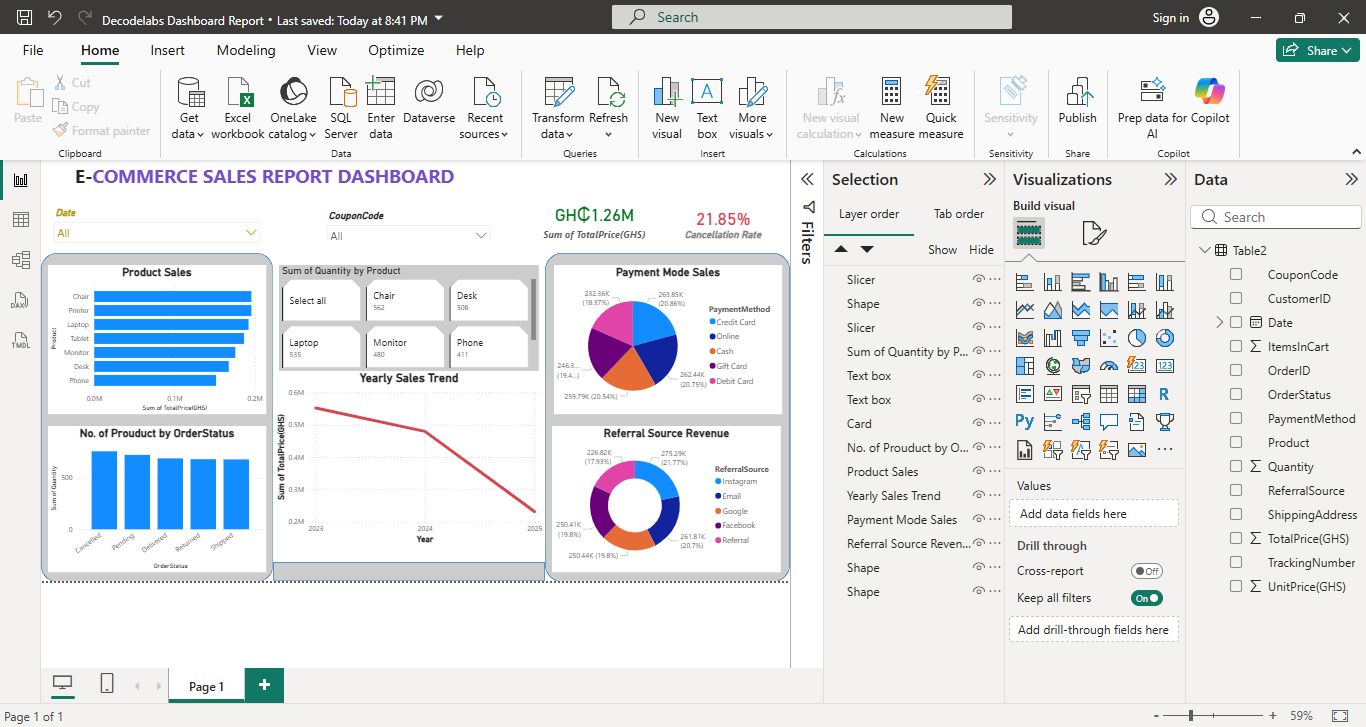

Layout of this report page (visuals, bound fields, positions):
{"tool":"powerbi","page":{"name":"Page 1","canvas":[1280,720],"ordinal":0},"visuals":[{"type":"shape","box":[0,158.9,396.5,562.2],"z":1000},{"type":"shape","box":[861.3,158.9,418.7,562.2],"z":2000},{"type":"donutChart","title":" Referral Source Revenue","fields":{"Category":["Table2.ReferralSource"],"Y":["Sum(Table2.TotalPrice(GHS))"]},"box":[873.3,454.6,391.3,249.5],"z":3000},{"type":"pieChart","title":" Payment Mode Sales","fields":{"Y":["Sum(Table2.TotalPrice(GHS))"],"Category":["Table2.PaymentMethod"]},"box":[876.7,179.4,389.6,254.6],"z":4000},{"type":"lineChart","title":" Yearly Sales Trend","fields":{"Category":["Table2.Date.Variation.Date Hierarchy.Year","Table2.Date.Variation.Date Hierarchy.Quarter","Table2.Date.Variation.Date Hierarchy.Month","Table2.Date.Variation.Date Hierarchy.Day"],"Y":["Sum(Table2.TotalPrice(GHS))"]},"box":[396.5,360.6,464.8,300.8],"z":5000},{"type":"clusteredBarChart","title":" Product Sales","fields":{"Y":["Sum(Table2.TotalPrice(GHS))"],"Category":["Table2.Product"]},"box":[12,179.4,372.6,254.6],"z":6000},{"type":"clusteredColumnChart","title":"No. of Prouduct by OrderStatus","fields":{"Category":["Table2.OrderStatus"],"Y":["Sum(Table2.Quantity)"]},"box":[12,454.6,372.6,249.5],"z":7000},{"type":"card","fields":{"Values":["Sum(Table2.TotalPrice(GHS))"]},"box":[840.8,63.2,210.2,80.3],"z":8000},{"type":"textbox","box":[53,0,863,63.2],"z":8500},{"type":"textbox","box":[1051,78,229,80.3],"z":8501},{"type":"advancedSlicerVisual","fields":{"Values":["Table2.Product"],"Label":["Sum(Table2.Quantity)"]},"box":[406.7,179.4,444.3,181.1],"z":8502},{"type":"slicer","fields":{"Values":["Table2.Date"]},"box":[12,75.2,372.6,68.4],"z":8503},{"type":"shape","box":[396.5,687,464.8,32.5],"z":8504},{"type":"slicer","fields":{"Values":["Table2.CouponCode"]},"box":[478.5,80.3,299.1,58.1],"z":8505}]}

Visuals, with their boxes on the page's 1280x720 design canvas (x1, y1, x2, y2). These are canvas units, not pixel positions in the 1366x727 screenshot, which may show the page scaled, cropped or inside an application window:
shape: Rect(0, 159, 396, 721)
shape: Rect(861, 159, 1280, 721)
" Referral Source Revenue" donutChart: Rect(873, 455, 1265, 704)
" Payment Mode Sales" pieChart: Rect(877, 179, 1266, 434)
" Yearly Sales Trend" lineChart: Rect(396, 361, 861, 661)
" Product Sales" clusteredBarChart: Rect(12, 179, 385, 434)
"No. of Prouduct by OrderStatus" clusteredColumnChart: Rect(12, 455, 385, 704)
card - Sum(Table2.TotalPrice(GHS)): Rect(841, 63, 1051, 144)
textbox: Rect(53, 0, 916, 63)
textbox: Rect(1051, 78, 1280, 158)
advancedSlicerVisual - Table2.Product x Sum(Table2.Quantity): Rect(407, 179, 851, 360)
slicer - Table2.Date: Rect(12, 75, 385, 144)
shape: Rect(396, 687, 861, 720)
slicer - Table2.CouponCode: Rect(478, 80, 778, 138)
